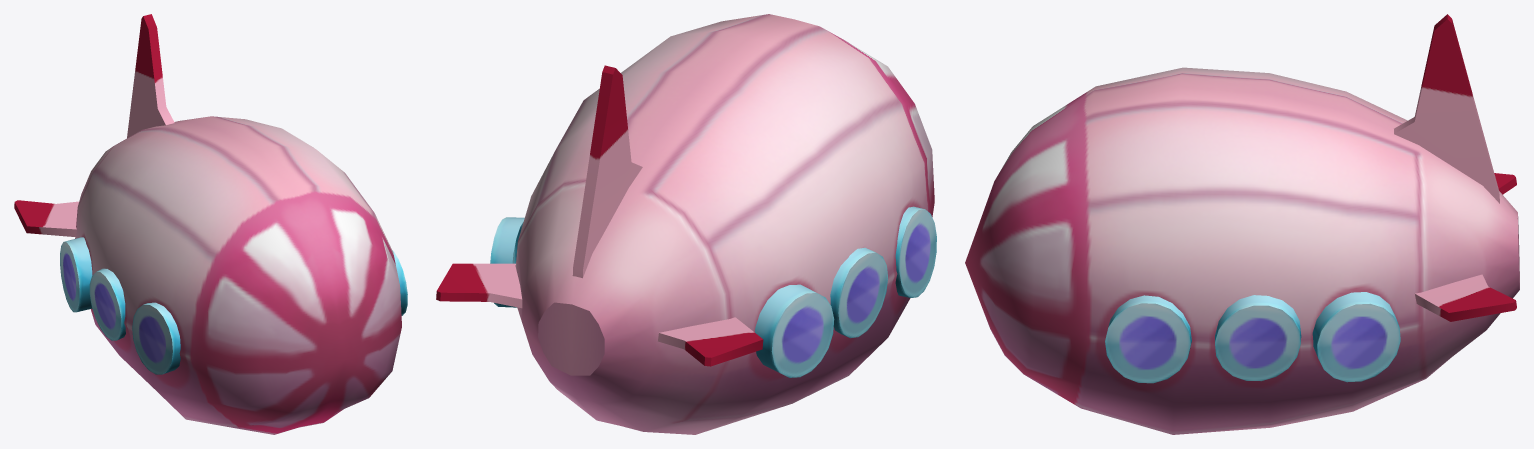
Rendered from feiting2.FBX.
3 renders of one model, left to right at view 1: azimuth 30°, elevation 25°; view 2: azimuth 150°, elevation 25°; view 3: azimuth 270°, elevation 25°, orthographic. The views are drawn at different scales.
Parts seen in each view (by area): view 1: Fly004; view 2: Fly004; view 3: Fly004.
Boxes of the visible parts, <box> form: Fly004: <box>14,14,407,434</box>; Fly004: <box>436,14,936,434</box>; Fly004: <box>965,14,1519,434</box>.
Bounding box in the file's own units: 3.72 × 4.57 × 5.83.
